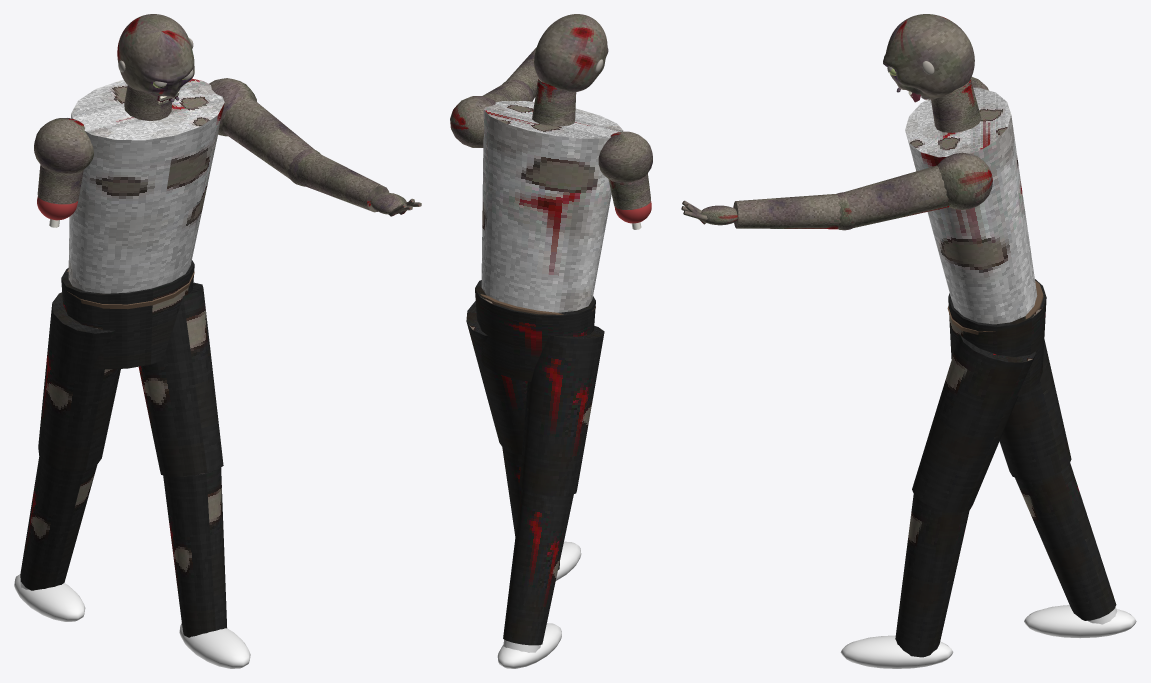
The model's file is Zombie_101.glb.
The picture shows the model from 3 angles, left to right: view 1: azimuth 30°, elevation 25°; view 2: azimuth 150°, elevation 25°; view 3: azimuth 270°, elevation 25°; orthographic projection. The views are drawn at different scales.
Parts seen in each view (by area): view 1: Zombie_101, object 9, object 3; view 2: Zombie_101, object 9, object 3; view 3: Zombie_101, object 9, object 3.
Boxes of the visible parts, x1=… form: Zombie_101: x1=14, y1=78, x2=314, y2=668; object 9: x1=117, y1=14, x2=194, y2=97; object 3: x1=296, y1=152, x2=389, y2=212; Zombie_101: x1=450, y1=78, x2=652, y2=668; object 9: x1=534, y1=14, x2=608, y2=92; object 3: x1=506, y1=47, x2=538, y2=99; Zombie_101: x1=840, y1=77, x2=1136, y2=668; object 9: x1=883, y1=14, x2=974, y2=99; object 3: x1=733, y1=194, x2=841, y2=229.
Size of the model in its own units: 0.6459 by 1.63 by 1.07.
Materials: 17 (5 with a texture image).
